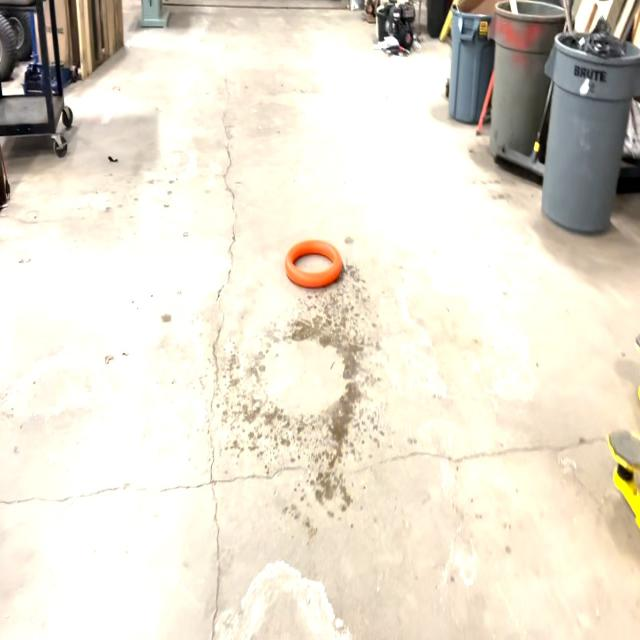note: (282, 234, 346, 292)
